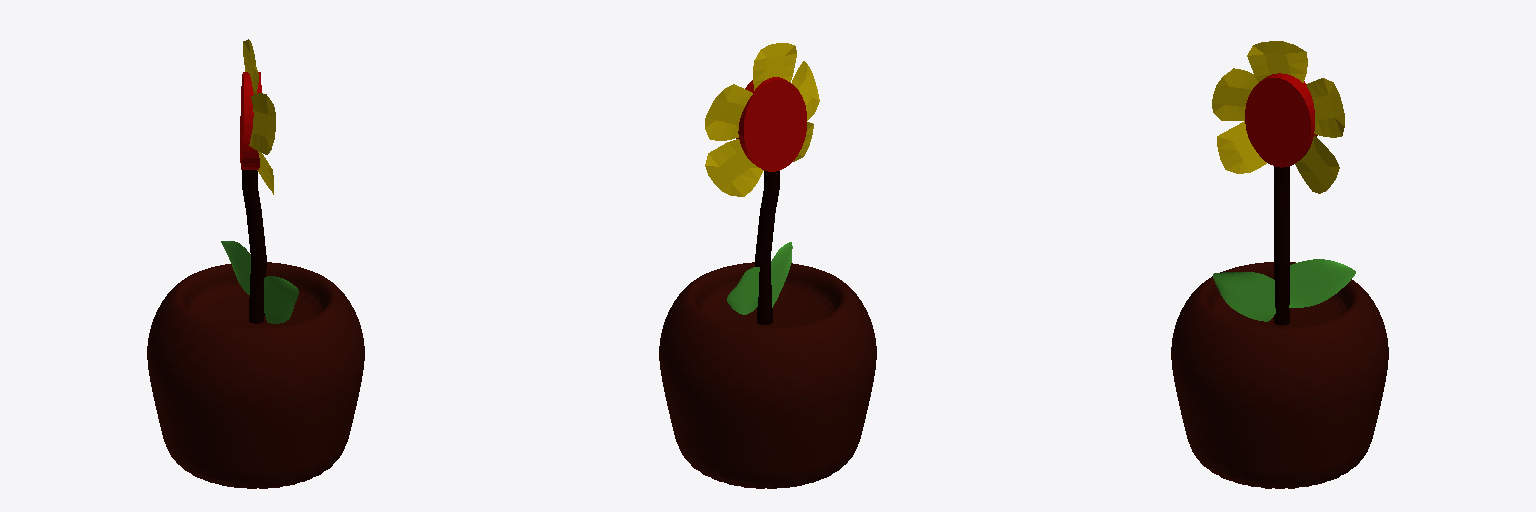
The model's file is Flower.obj.
3 views of the same model, side by side, from view 1: azimuth 30°, elevation 25°; view 2: azimuth 150°, elevation 25°; view 3: azimuth 270°, elevation 25° (orthographic).
Parts seen in each view (by area): view 1: Cylinder, Cylinder.001, Plane.005_Plane, Cylinder.002, Plane.003_Plane.004, Plane.006_Plane.005; view 2: Cylinder, Cylinder.002, Cylinder.001, Plane_Plane.001, Plane.001_Plane.002, Plane.002_Plane.003, Plane.006_Plane.005, Plane.003_Plane.004, Plane.005_Plane; view 3: Cylinder, Cylinder.002, Cylinder.001, Plane.006_Plane.005, Plane.005_Plane, Plane.002_Plane.003, Plane.003_Plane.004, Plane.001_Plane.002, Plane.004_Plane.006, Plane_Plane.001.
Boxes of the visible parts, box(x1,y1,x2,y2) form: Cylinder: box(147, 262, 364, 488); Cylinder.001: box(242, 170, 266, 323); Plane.005_Plane: box(264, 276, 298, 323); Cylinder.002: box(240, 72, 261, 169); Plane.003_Plane.004: box(249, 93, 275, 154); Plane.006_Plane.005: box(221, 241, 250, 294); Cylinder: box(659, 262, 876, 488); Cylinder.002: box(736, 77, 806, 171); Cylinder.001: box(755, 170, 779, 324); Plane_Plane.001: box(705, 139, 763, 196); Plane.001_Plane.002: box(705, 84, 752, 140); Plane.002_Plane.003: box(753, 43, 796, 90); Plane.006_Plane.005: box(727, 267, 759, 314); Plane.003_Plane.004: box(791, 61, 819, 120); Plane.005_Plane: box(771, 242, 792, 307); Cylinder: box(1171, 262, 1388, 488); Cylinder.002: box(1245, 73, 1317, 167); Cylinder.001: box(1274, 166, 1289, 325); Plane.006_Plane.005: box(1289, 259, 1355, 307); Plane.005_Plane: box(1213, 272, 1275, 321); Plane.002_Plane.003: box(1247, 41, 1307, 82); Plane.003_Plane.004: box(1212, 68, 1258, 120); Plane.001_Plane.002: box(1306, 78, 1344, 137); Plane.004_Plane.006: box(1217, 121, 1266, 173); Plane_Plane.001: box(1295, 135, 1339, 193).
Size of the model in its own units: 0.4251 by 0.9188 by 0.4251.